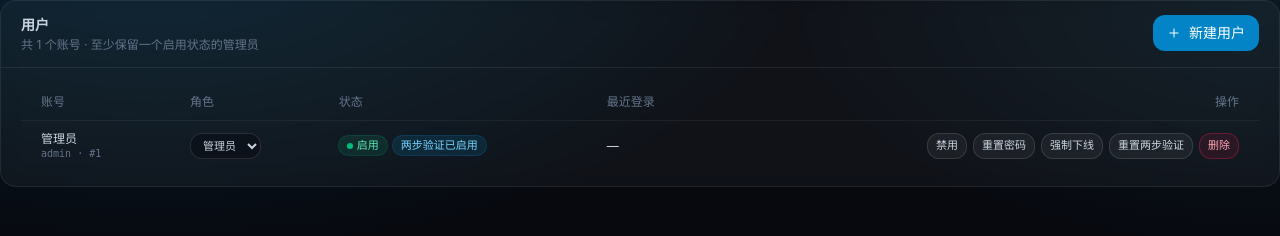
Scenario: 用户列表 · 管理员强制重置两步验证 › totpEnabled 用户显示徽标；二次确认后重置并提示用户需重新登录
The width and height of the screenshot is (1280, 236).
Check: the text "两步验证已启用" is shown, box 393,136 -> 486,155
Click the button "重置两步验证".
click(1151, 146)  # box 1109,133 -> 1193,158
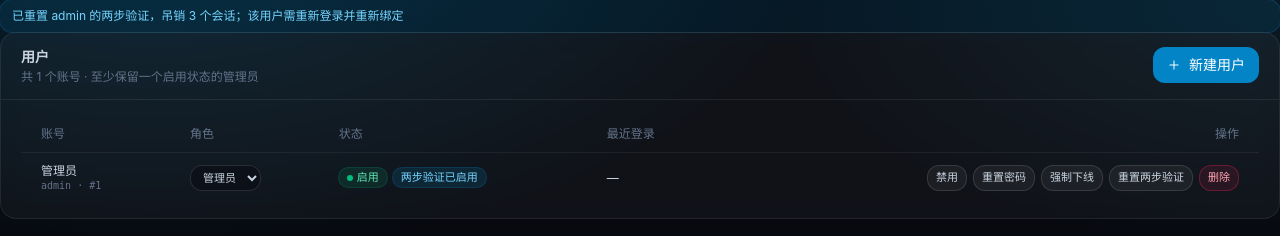
Check: the text "已重置 admin 的两步验证，吊销 3 个会话；该用户需重新登录并重新绑定" is shown, box 0,0 -> 1279,32
